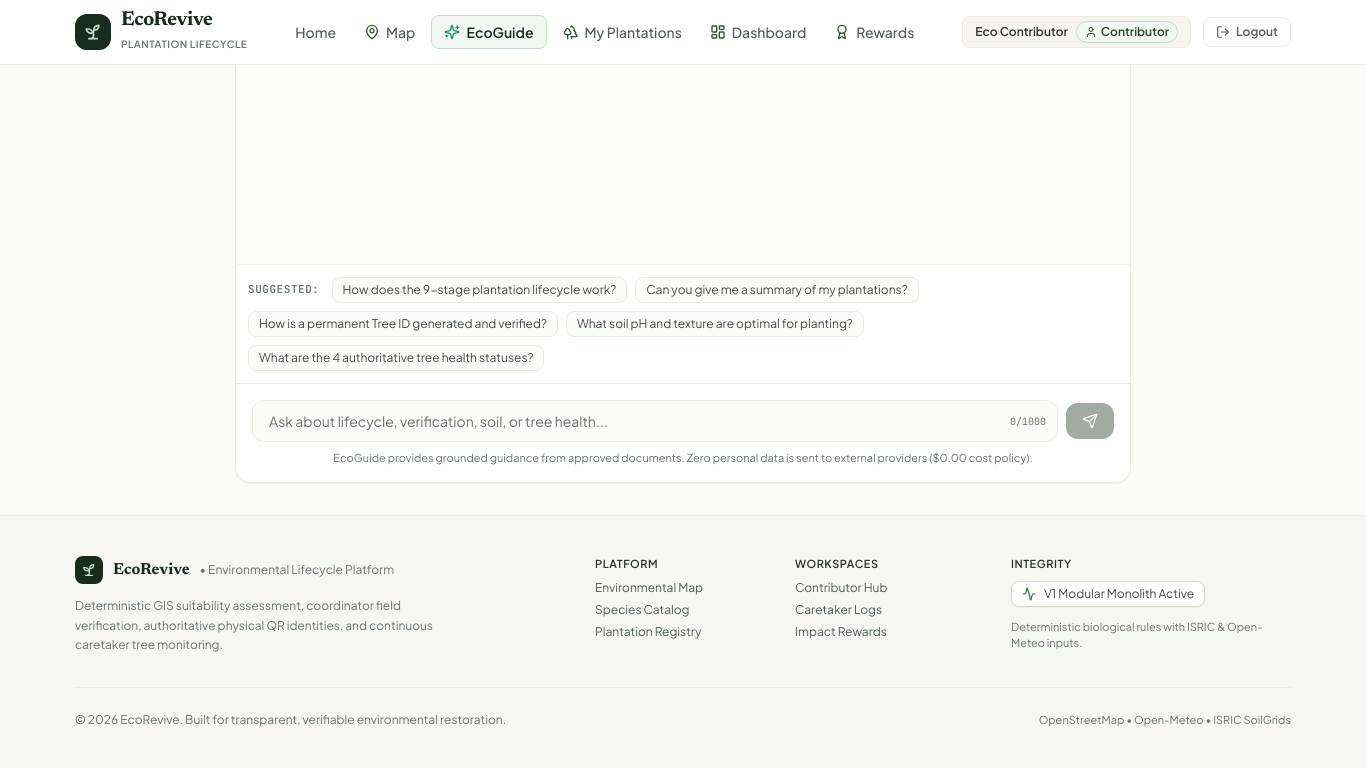
Frontend V2-M2 — EcoGuide Knowledge Assistant › should render both approved knowledge sources and live-data evidence citations
(page scrolled)
Type "Status of my plantations" into the field with test id "ecoguide-input".
click(655, 420); type("Status of my plantations")  # box [252,400,1058,442]
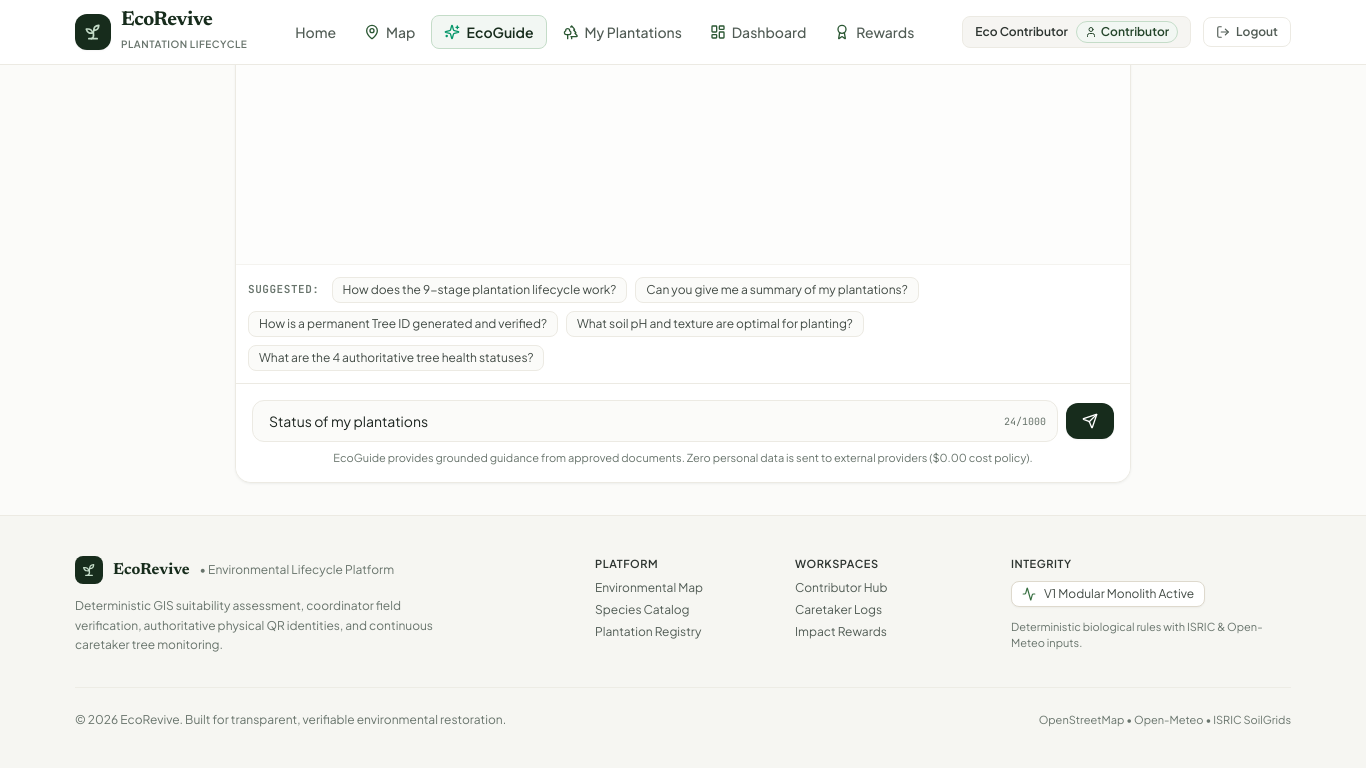
Click the button with test id "ecoguide-send".
click(1090, 420)  # box [1066,402,1114,438]
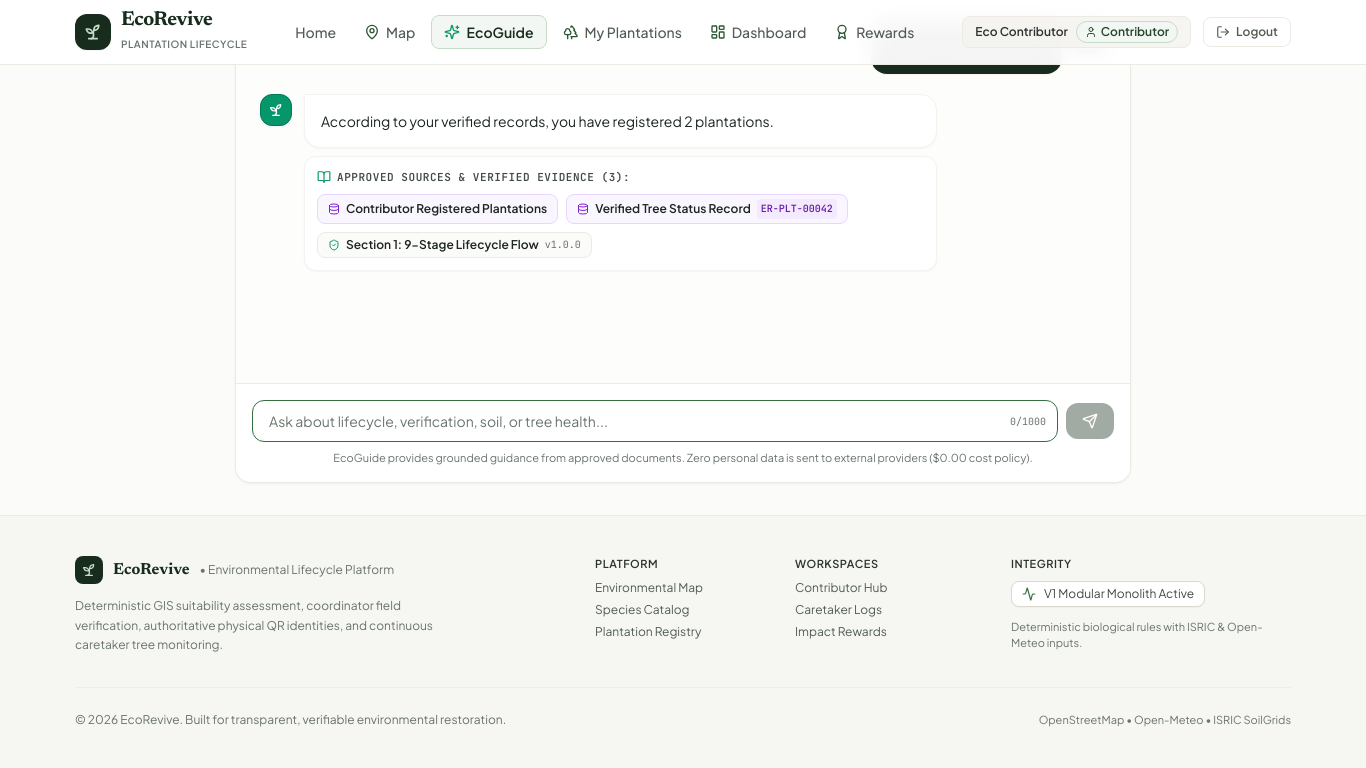
expect the text "According to your verified records" is shown: met, box [321,112,774,130]
expect the text "Contributor Registered Plantations" is shown: met, box [346,200,547,216]
expect the text "Verified Tree Status Record" is shown: met, box [595,200,751,216]
